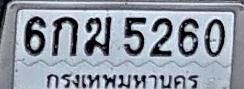0: (204, 18, 225, 56)
2: (150, 18, 172, 56)
5: (124, 16, 146, 56)
6: (24, 15, 46, 56), (178, 17, 198, 56)
A01: (51, 16, 78, 56)
A06: (84, 16, 112, 55)
BKK: (44, 69, 202, 89)
